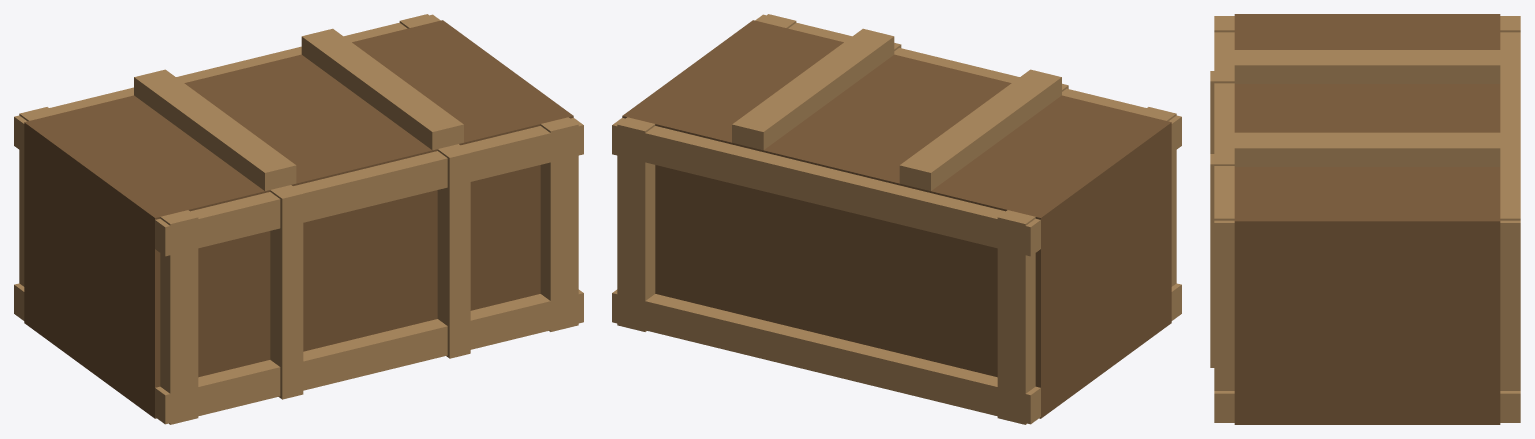
File: TW_CRATE_LONG_A_LOD0.glb
3 views of the same model, side by side, from view 1: azimuth 30°, elevation 25°; view 2: azimuth 150°, elevation 25°; view 3: azimuth 270°, elevation 25° (orthographic).
Parts seen in each view (by area): view 1: TW_CRATE_LONG_A_LOD0; view 2: TW_CRATE_LONG_A_LOD0; view 3: TW_CRATE_LONG_A_LOD0.
Boxes of the visible parts, x1=… form: TW_CRATE_LONG_A_LOD0: x1=14, y1=14, x2=583, y2=424; TW_CRATE_LONG_A_LOD0: x1=612, y1=14, x2=1181, y2=424; TW_CRATE_LONG_A_LOD0: x1=1210, y1=14, x2=1520, y2=424.
Bounding box in the file's own units: 1.2 × 0.6 × 0.76.
1 material, 1 textured.
